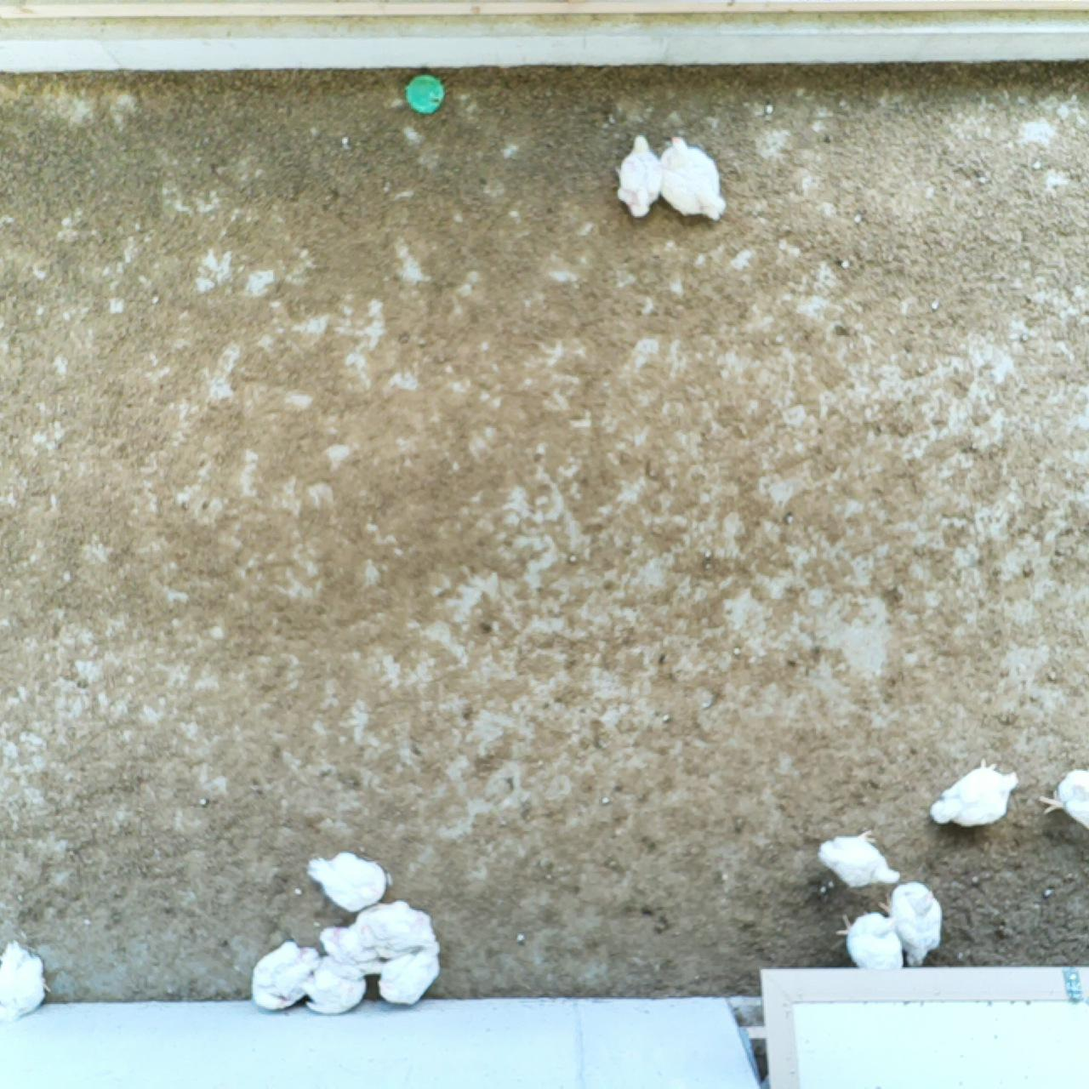chicken: (655, 132, 727, 223), (929, 758, 1019, 830), (878, 878, 946, 968), (352, 898, 441, 962), (817, 825, 902, 889), (249, 939, 322, 1013), (306, 852, 388, 914), (298, 950, 369, 1017), (611, 132, 665, 220), (0, 938, 52, 1029), (378, 936, 442, 1006), (837, 907, 904, 969), (1038, 766, 1089, 844), (321, 921, 387, 977)
